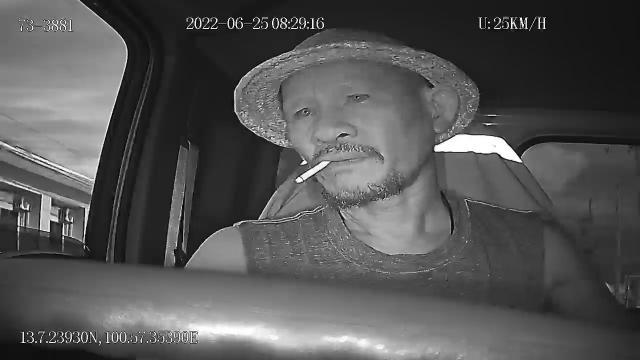SafeDriving: (340, 85, 378, 109), (288, 99, 322, 124)
Smoking: (295, 160, 331, 184)
